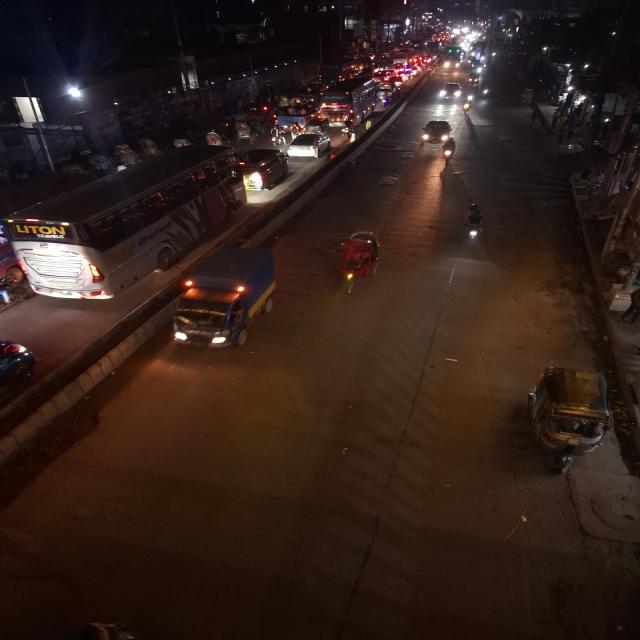bus: (2, 142, 242, 303), (318, 77, 379, 123)
car: (235, 146, 293, 192), (284, 132, 335, 160), (416, 117, 456, 147), (438, 81, 464, 101)
cng: (526, 363, 615, 482), (439, 81, 464, 101)
motorcycle: (0, 336, 41, 431), (459, 201, 489, 249), (0, 267, 16, 311), (438, 136, 459, 164), (340, 120, 357, 142), (460, 97, 474, 115)
rickshaw: (330, 229, 386, 297), (233, 124, 256, 144)
truck: (167, 244, 283, 352)
